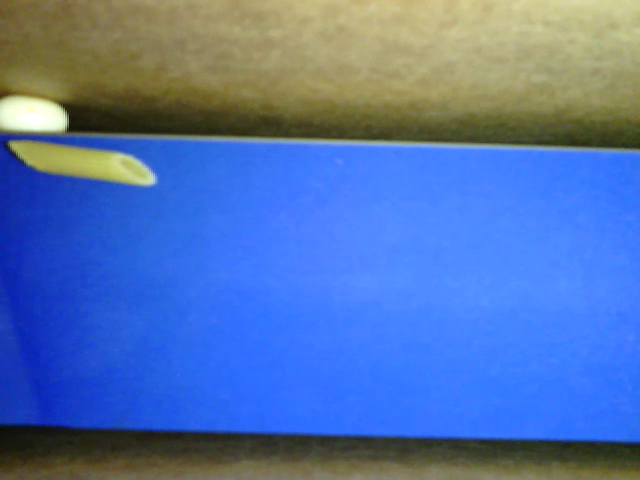penne: (7, 137, 158, 186)
